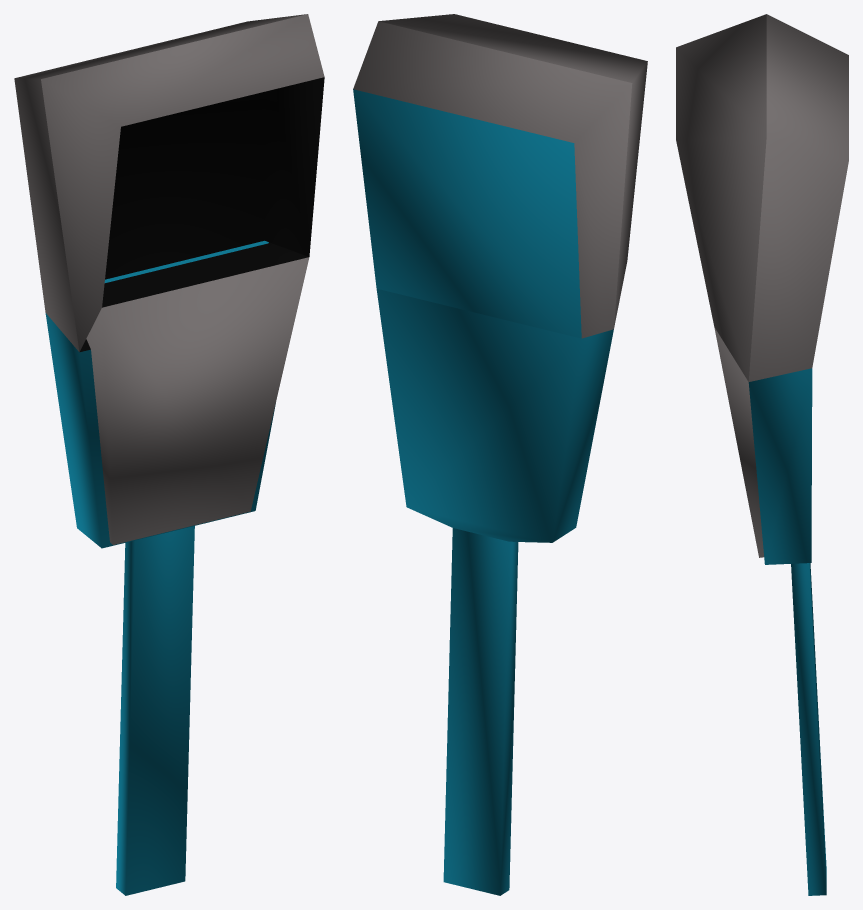
File: CenarioFase1.fbx_Lixeira.fbx
3 renders of one model, left to right at view 1: azimuth 30°, elevation 25°; view 2: azimuth 150°, elevation 25°; view 3: azimuth 270°, elevation 25°, orthographic. The views are drawn at different scales.
Visible parts, largest first — view 1: lixeira; view 2: lixeira; view 3: lixeira.
Part boxes in pixels (x1,y1,x2,y2): lixeira: [14, 14, 324, 895]; lixeira: [353, 14, 647, 895]; lixeira: [676, 14, 848, 895].
Size of the model in its own units: 197 by 606 by 118.
